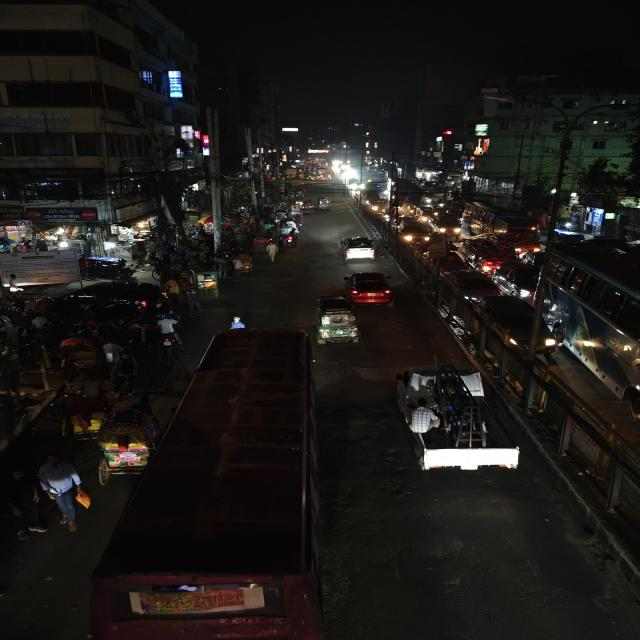bus: (111, 325, 323, 640), (534, 234, 640, 408)
car: (481, 295, 551, 357), (348, 270, 396, 310), (442, 268, 498, 302), (494, 260, 534, 298), (396, 217, 436, 249), (338, 234, 379, 263)
cng: (317, 298, 362, 347), (316, 196, 332, 212)
motorcycle: (155, 317, 185, 353), (284, 230, 300, 248)
pedestrian: (34, 454, 89, 537), (264, 242, 280, 264)
pickup_van: (385, 364, 525, 483)
rickshaw: (96, 415, 158, 483), (251, 235, 268, 258)
